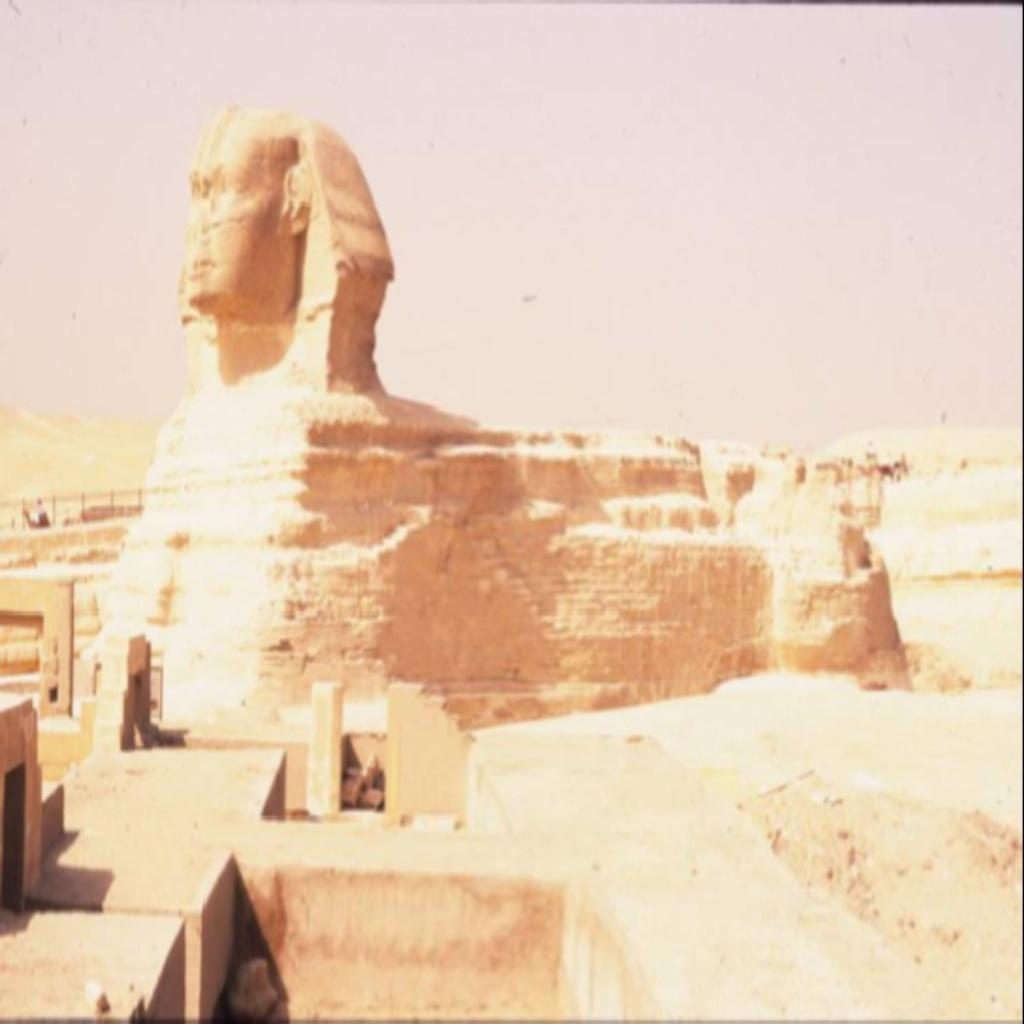Sphinx: (87, 100, 913, 750)
